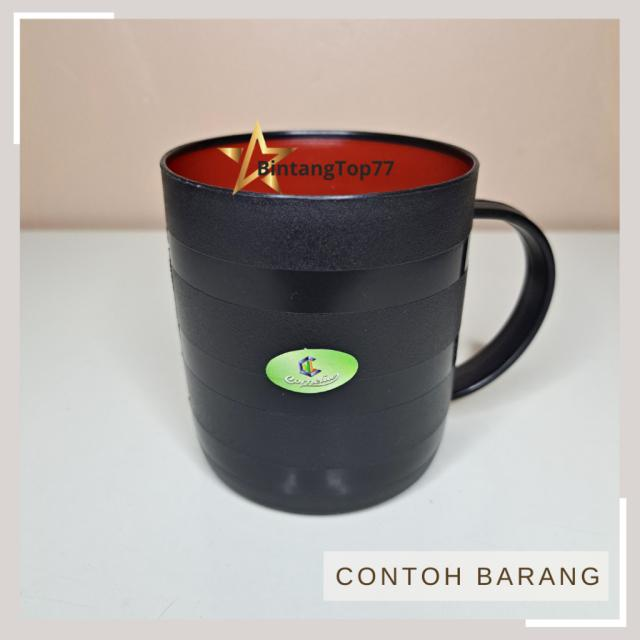Cangkir: (145, 111, 567, 530)
